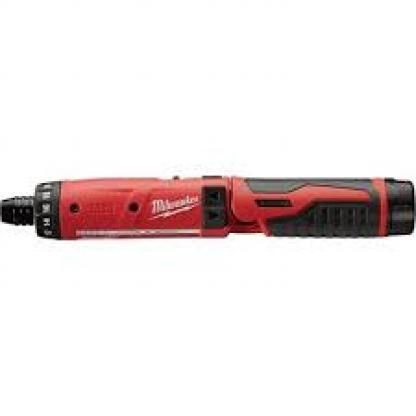Wrench: (0, 168, 416, 244)
